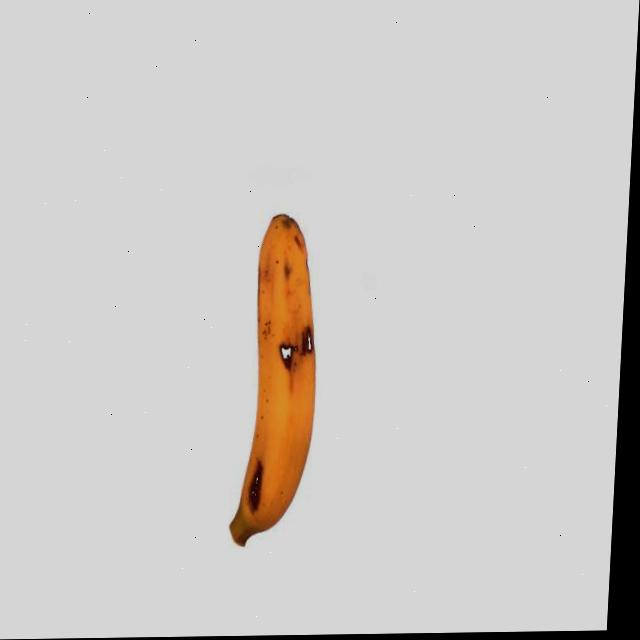banana: (227, 208, 325, 548)
